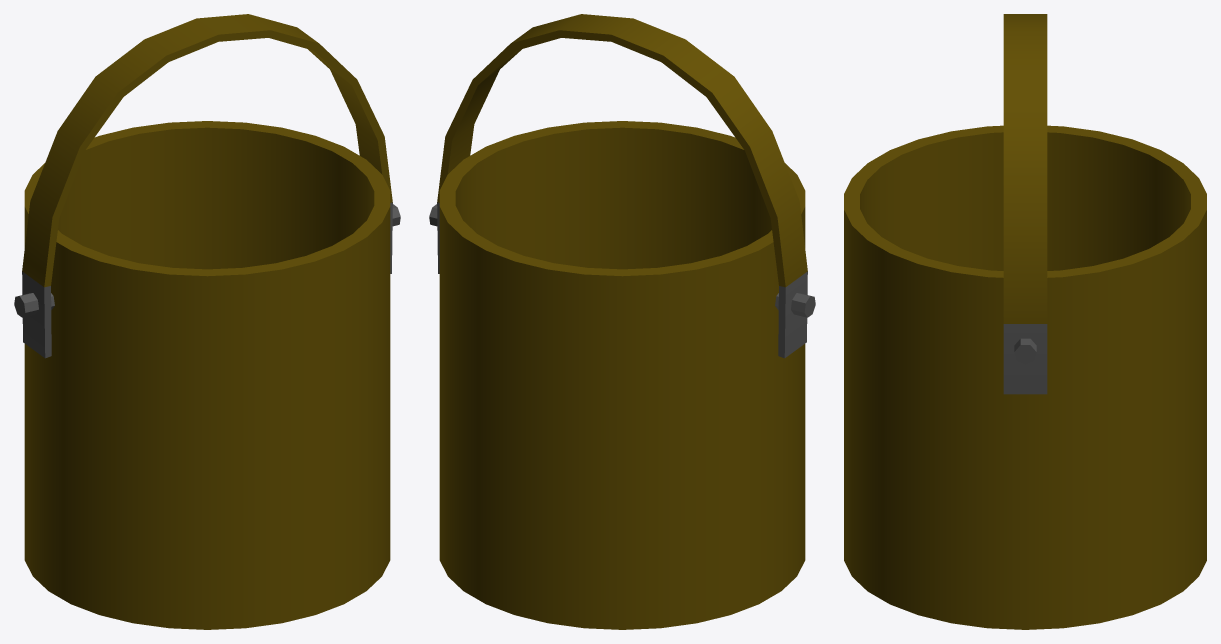
The model's file is SM_Prop_BucketWood.fbx.
The picture shows the model from 3 angles, left to right: view 1: azimuth 30°, elevation 25°; view 2: azimuth 150°, elevation 25°; view 3: azimuth 270°, elevation 25°; orthographic projection.
Visible parts, largest first — view 1: SM_Prop_BucketWood; view 2: SM_Prop_BucketWood; view 3: SM_Prop_BucketWood.
Boxes of the visible parts, bbox=[...] form: SM_Prop_BucketWood: bbox=[14, 14, 400, 629]; SM_Prop_BucketWood: bbox=[429, 14, 815, 629]; SM_Prop_BucketWood: bbox=[844, 14, 1206, 629].
Bounding box in the file's own units: 37.76 × 50.53 × 31.82.
